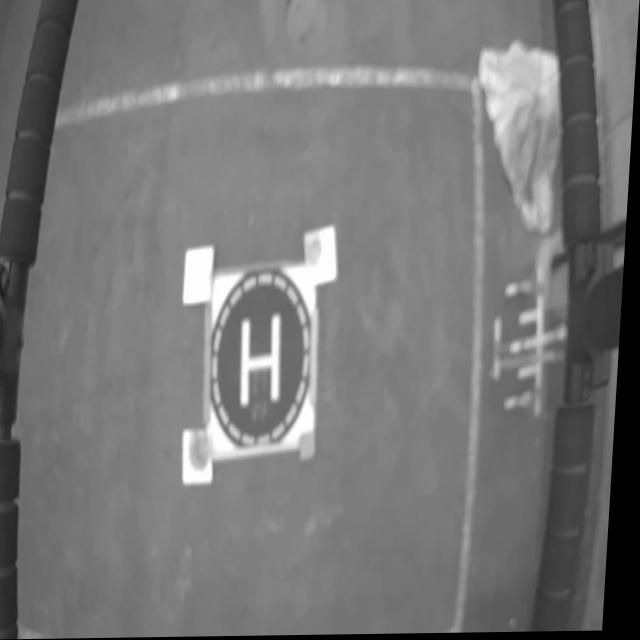Helipad: (245, 311, 285, 410)
